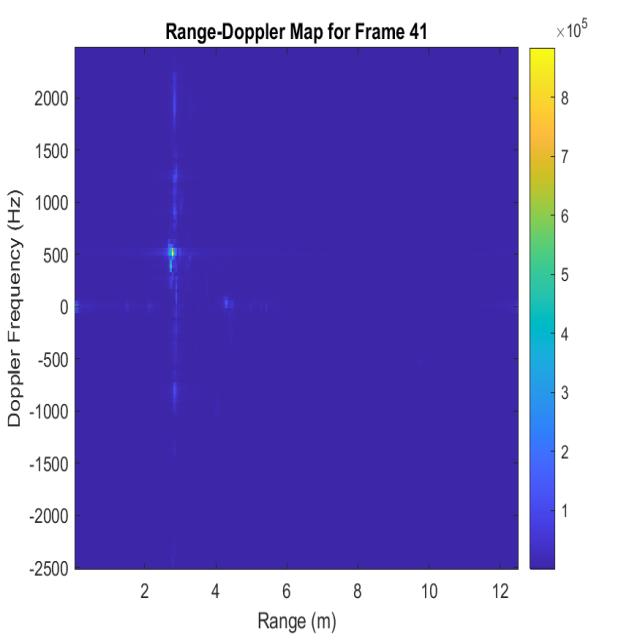target-1: (158, 69, 193, 426)
target-2: (206, 276, 272, 333)
